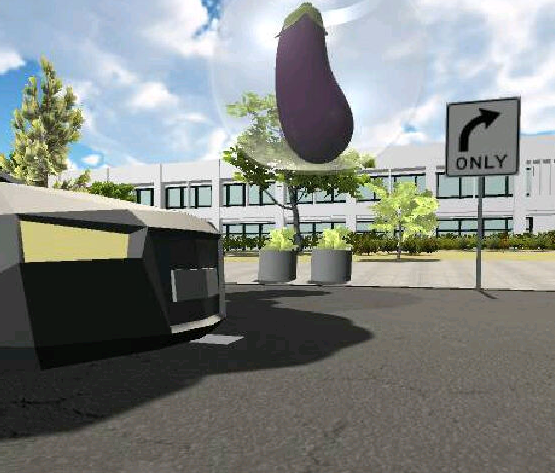turn_right: (454, 108, 504, 152)
